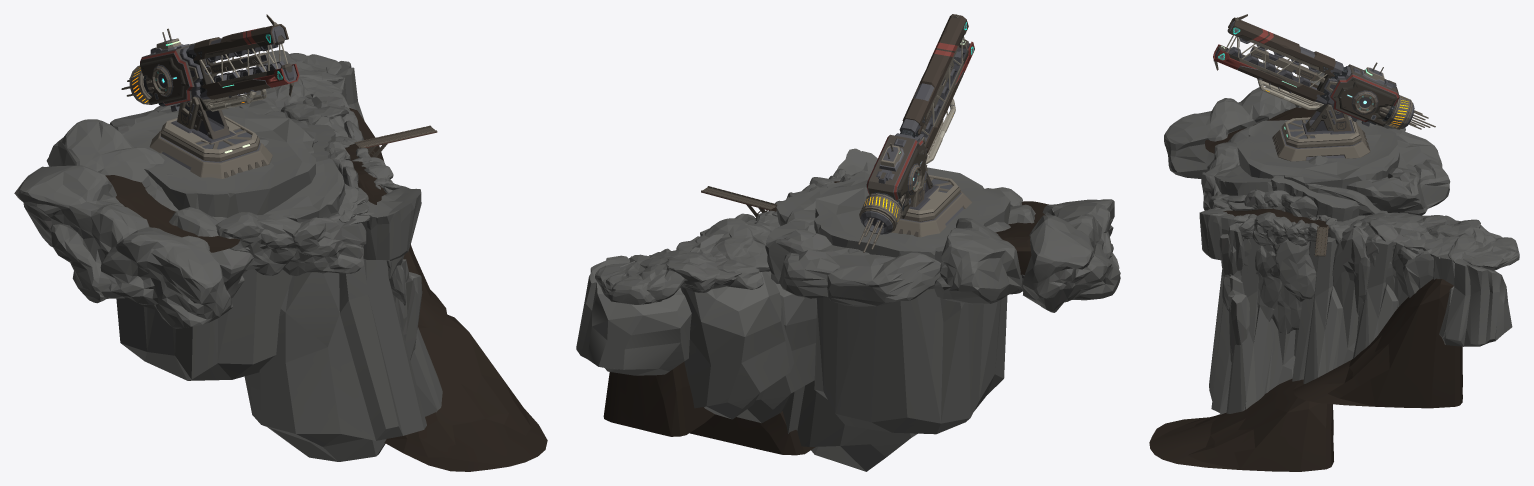
3 views of the same model, side by side, from view 1: azimuth 30°, elevation 25°; view 2: azimuth 150°, elevation 25°; view 3: azimuth 270°, elevation 25° (orthographic). The views are drawn at different scales.
Visible parts, largest first — view 1: chunk_q00; view 2: chunk_q00; view 3: chunk_q00.
Boxes of the visible parts, x1,y1,x2,y2 form: chunk_q00: (14, 14, 547, 471); chunk_q00: (576, 14, 1120, 471); chunk_q00: (1149, 14, 1519, 471).
Size of the model in its own units: 44.01 by 43.81 by 39.19.
4 materials, 3 textured.
